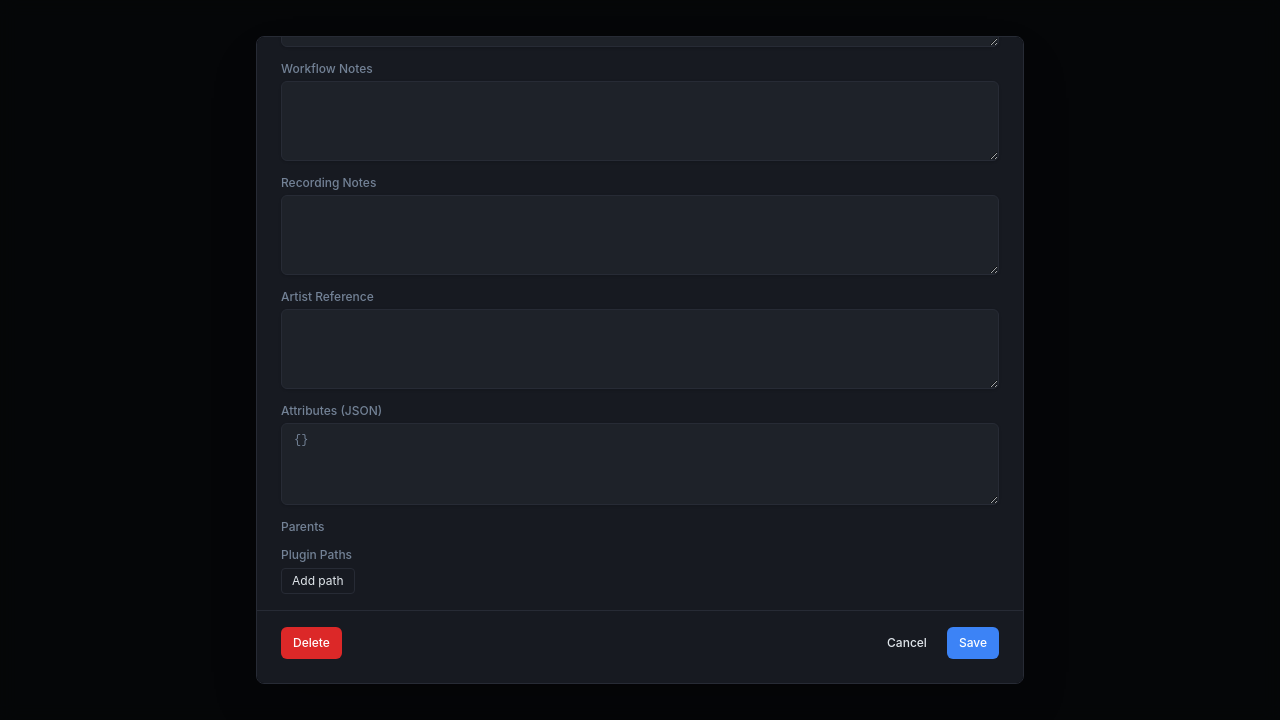
Scenario: EffectModal — create mode › shows error message when create fails
(page scrolled)
Click the button "Save" at [973, 643], box [947,627,999,659]
(page scrolled)
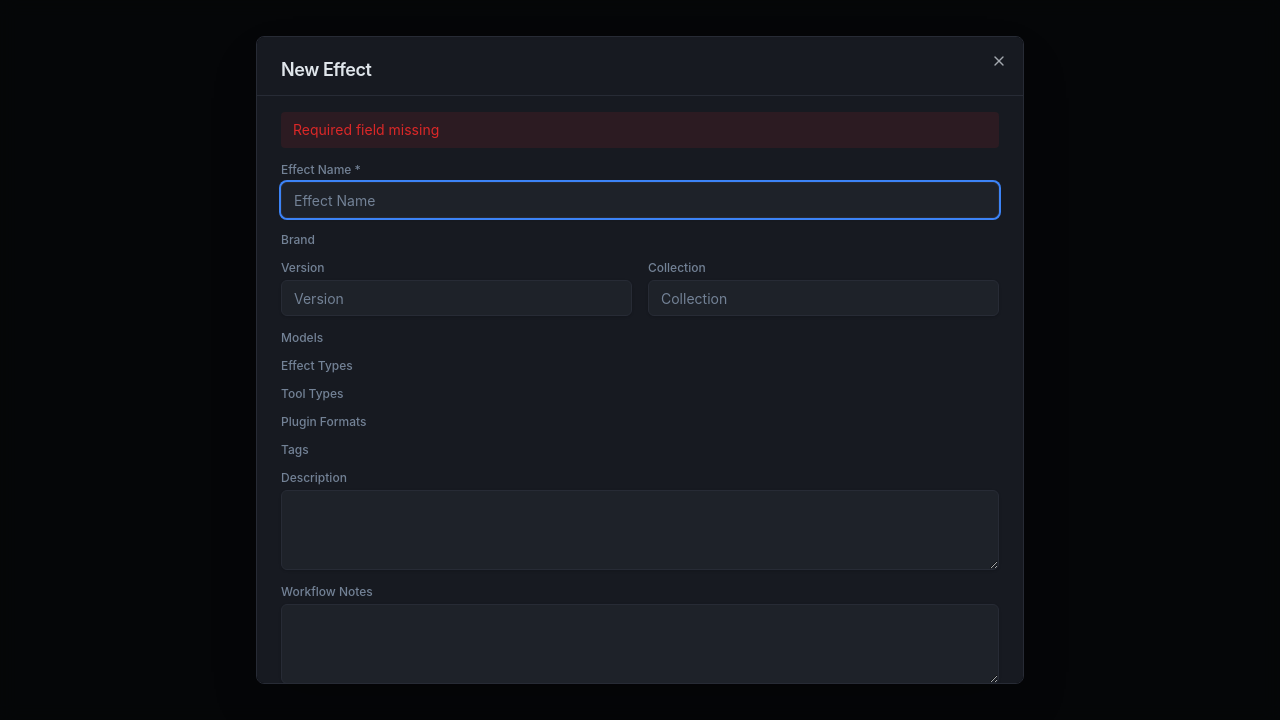
Result: the text "Required field missing" is shown at [281,112,999,148]
